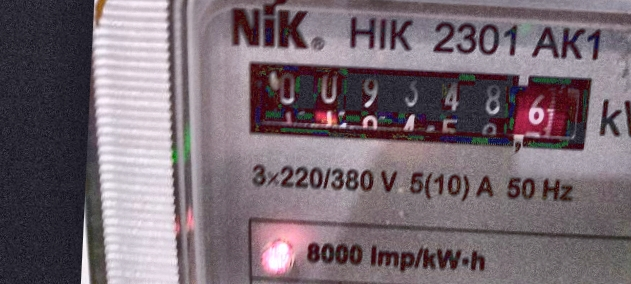0: (317, 70, 340, 107), (276, 70, 298, 106)
3: (399, 75, 422, 108)
4: (439, 77, 461, 115)
6: (525, 91, 549, 126)
8: (482, 81, 503, 116)
9: (360, 73, 379, 108)
screen: (222, 46, 611, 166)
